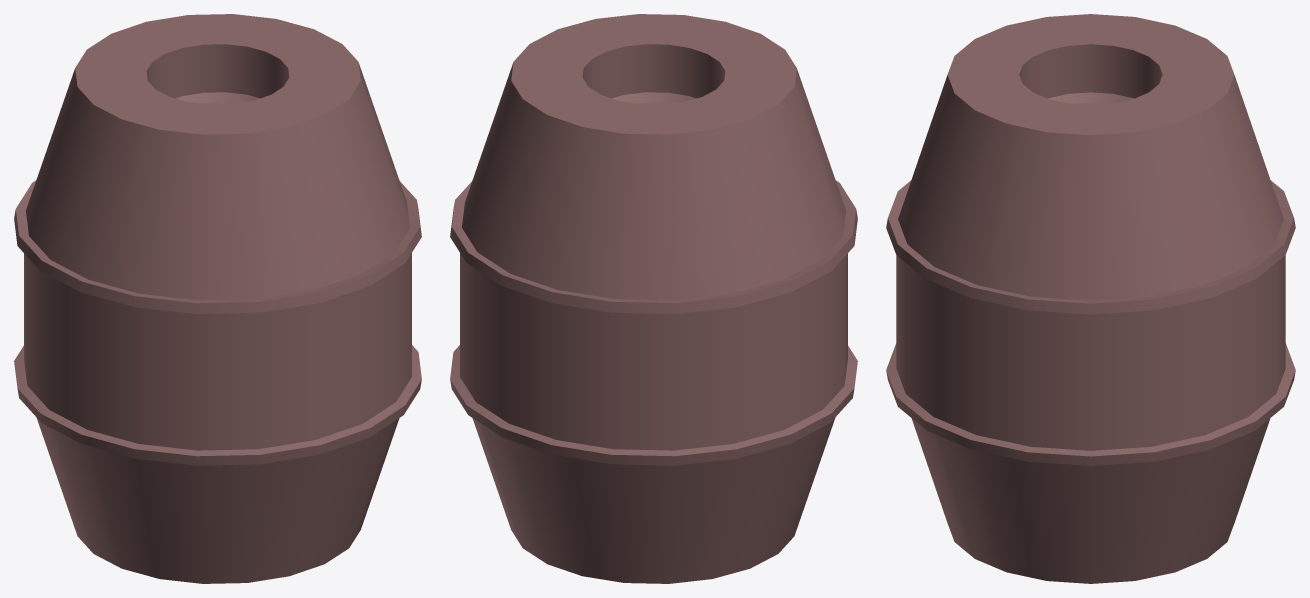
Rendered from prop_barrel_austin.fbx.
3 views of the same model, side by side, from view 1: azimuth 30°, elevation 25°; view 2: azimuth 150°, elevation 25°; view 3: azimuth 270°, elevation 25° (orthographic).
Visible parts, largest first — view 1: polySurface29; view 2: polySurface29; view 3: polySurface29.
Part boxes in pixels (x1,y1,x2,y2): polySurface29: [14, 14, 421, 583]; polySurface29: [450, 14, 857, 583]; polySurface29: [886, 14, 1295, 583].
Size of the model in its own units: 2.86 by 3.45 by 2.86.
